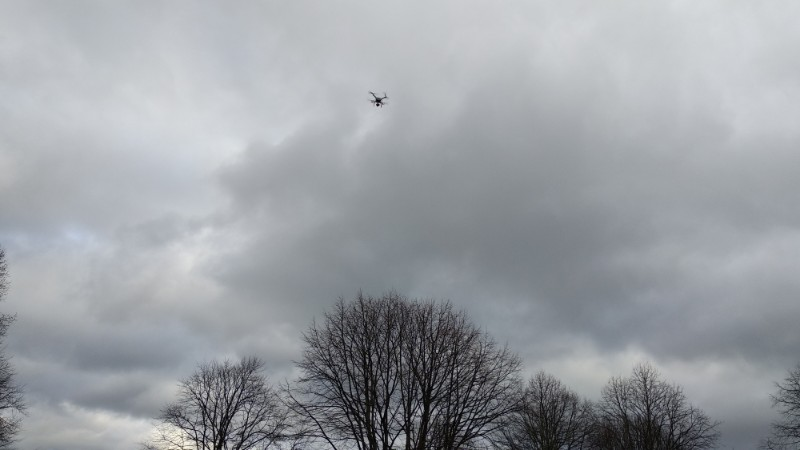drone: (368, 92, 389, 107)
